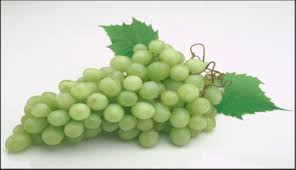Green grapes: (3, 39, 234, 152)
